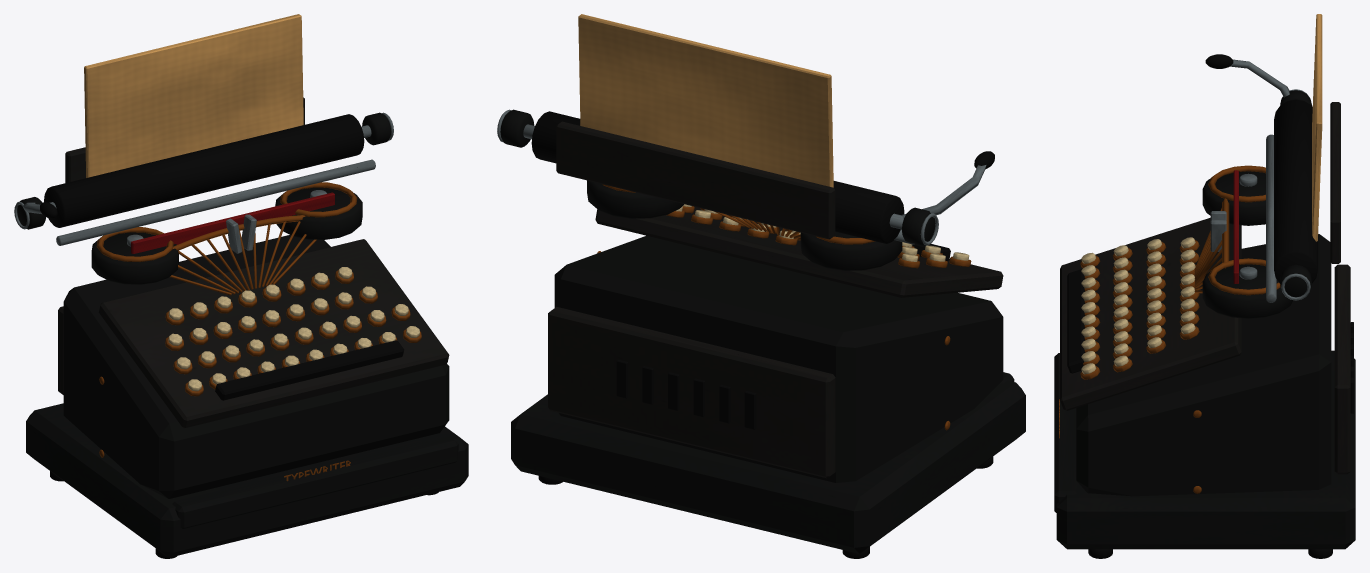
File: vintage_typewriter_LOD1.glb
The picture shows the model from 3 angles, left to right: view 1: azimuth 30°, elevation 25°; view 2: azimuth 150°, elevation 25°; view 3: azimuth 270°, elevation 25°; orthographic projection. The views are drawn at different scales.
Visible parts, largest first — view 1: Static typewriter PBR_black_metal batch, Static typewriter PBR_dark_metal batch, Static typewriter PBR_parchment batch, Static typewriter PBR_black batch, Static typewriter PBR_brass batch, Static typewriter PBR_cream batch, Static typewriter PBR_steel batch, Static typewriter PBR_red_fabric batch; view 2: Static typewriter PBR_black_metal batch, Static typewriter PBR_dark_metal batch, Static typewriter PBR_parchment batch, Static typewriter PBR_black batch, Static typewriter PBR_brass batch, Static typewriter PBR_steel batch, Static typewriter PBR_cream batch; view 3: Static typewriter PBR_black_metal batch, Static typewriter PBR_dark_metal batch, Static typewriter PBR_black batch, Static typewriter PBR_brass batch, Static typewriter PBR_cream batch, Static typewriter PBR_steel batch, Static typewriter PBR_parchment batch, Static typewriter PBR_red_fabric batch.
Part boxes in pixels (left/top/right/bottom): Static typewriter PBR_black_metal batch: left=17, top=112, right=468, bottom=557; Static typewriter PBR_dark_metal batch: left=58, top=97, right=449, bottom=428; Static typewriter PBR_parchment batch: left=84, top=14, right=303, bottom=177; Static typewriter PBR_black batch: left=40, top=114, right=438, bottom=558; Static typewriter PBR_brass batch: left=96, top=182, right=421, bottom=481; Static typewriter PBR_cream batch: left=168, top=267, right=419, bottom=391; Static typewriter PBR_steel batch: left=14, top=112, right=393, bottom=253; Static typewriter PBR_red_fabric batch: left=131, top=192, right=334, bottom=253; Static typewriter PBR_black_metal batch: left=500, top=109, right=1025, bottom=553; Static typewriter PBR_dark_metal batch: left=548, top=121, right=1003, bottom=478; Static typewriter PBR_parchment batch: left=578, top=14, right=833, bottom=187; Static typewriter PBR_black batch: left=531, top=111, right=994, bottom=558; Static typewriter PBR_brass batch: left=597, top=184, right=971, bottom=430; Static typewriter PBR_steel batch: left=497, top=109, right=986, bottom=245; Static typewriter PBR_cream batch: left=676, top=204, right=969, bottom=261; Static typewriter PBR_black_metal batch: left=1054, top=90, right=1355, bottom=549; Static typewriter PBR_dark_metal batch: left=1060, top=102, right=1350, bottom=474; Static typewriter PBR_black batch: left=1067, top=54, right=1353, bottom=558; Static typewriter PBR_brass batch: left=1059, top=165, right=1280, bottom=493; Static typewriter PBR_cream batch: left=1081, top=237, right=1195, bottom=374; Static typewriter PBR_steel batch: left=1210, top=59, right=1310, bottom=302; Static typewriter PBR_parchment batch: left=1312, top=14, right=1322, bottom=241; Static typewriter PBR_red_fabric batch: left=1233, top=170, right=1238, bottom=283.
Bounding box in the file's own units: 0.525 × 0.527 × 0.343.
8 materials, 8 textured.
